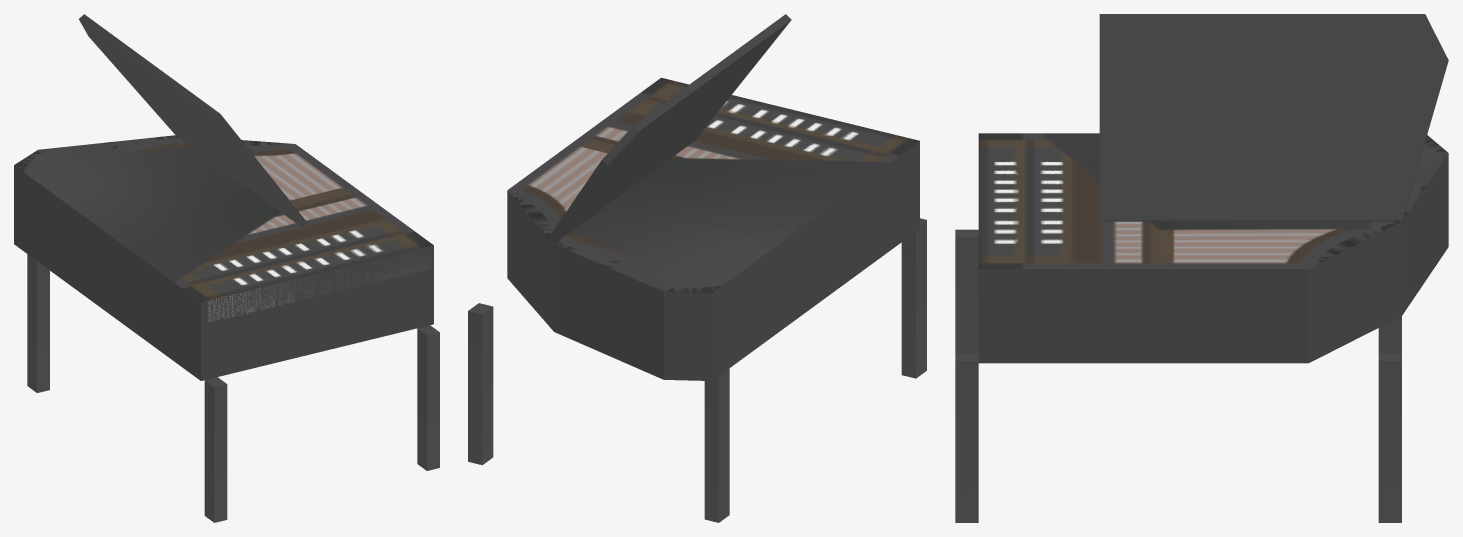
Rendered from Building_Harpsichord.glb.
3 views of the same model, side by side, from view 1: azimuth 30°, elevation 25°; view 2: azimuth 150°, elevation 25°; view 3: azimuth 270°, elevation 25° (orthographic). The views are drawn at different scales.
Parts seen in each view (by area): view 1: Harpsichord; view 2: Harpsichord; view 3: Harpsichord.
Boxes of the visible parts, <box> form: Harpsichord: <box>14,14,439,522</box>; Harpsichord: <box>468,14,926,522</box>; Harpsichord: <box>955,14,1448,522</box>.
Bounding box in the file's own units: 1.08 × 1.54 × 1.66.
1 material, 1 textured.
